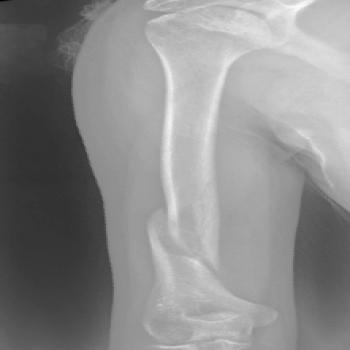Fracture: (135, 202, 229, 282)
